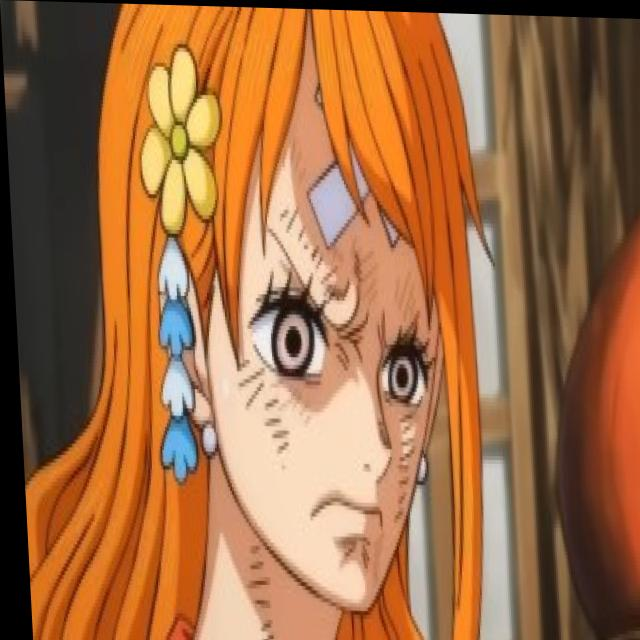Nami: (88, 2, 489, 639)
